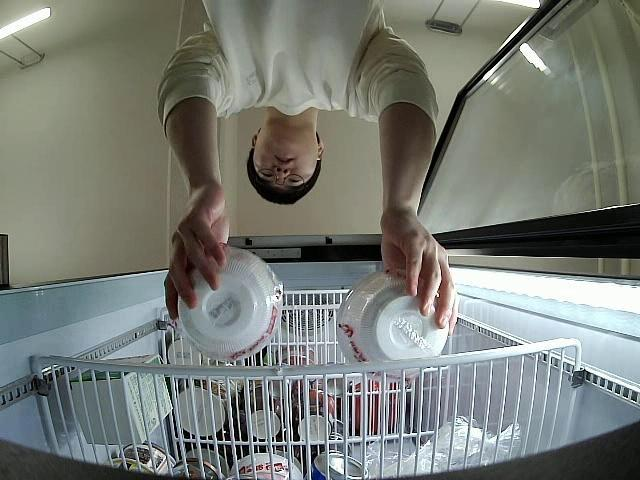09_yukGaeJang: (337, 271, 450, 378), (178, 247, 282, 362)
